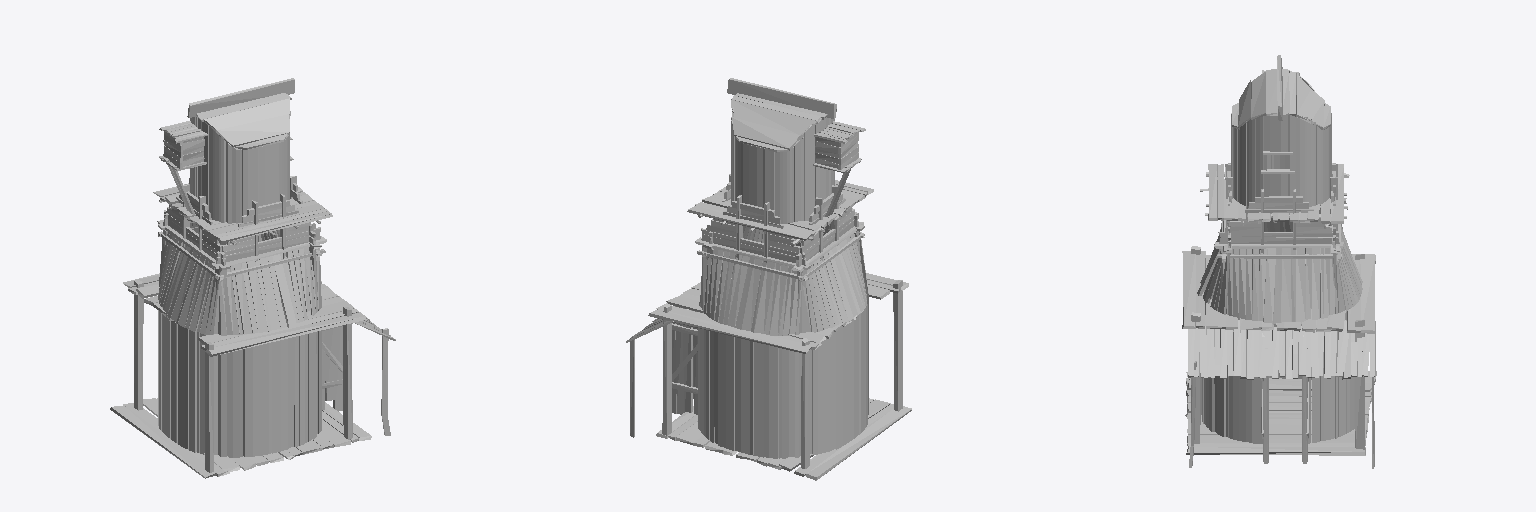
The model's file is construction.obj.
3 views of the same model, side by side, from view 1: azimuth 30°, elevation 25°; view 2: azimuth 150°, elevation 25°; view 3: azimuth 270°, elevation 25° (orthographic).
Visible parts, largest first — view 1: construction_Cube.007; view 2: construction_Cube.007; view 3: construction_Cube.007.
Boxes of the visible parts, box(x1,y1,x2,y2) form: construction_Cube.007: box(110, 78, 395, 478); construction_Cube.007: box(626, 78, 911, 480); construction_Cube.007: box(1182, 55, 1376, 468).
Size of the model in its own units: 20.22 by 33.29 by 17.51.